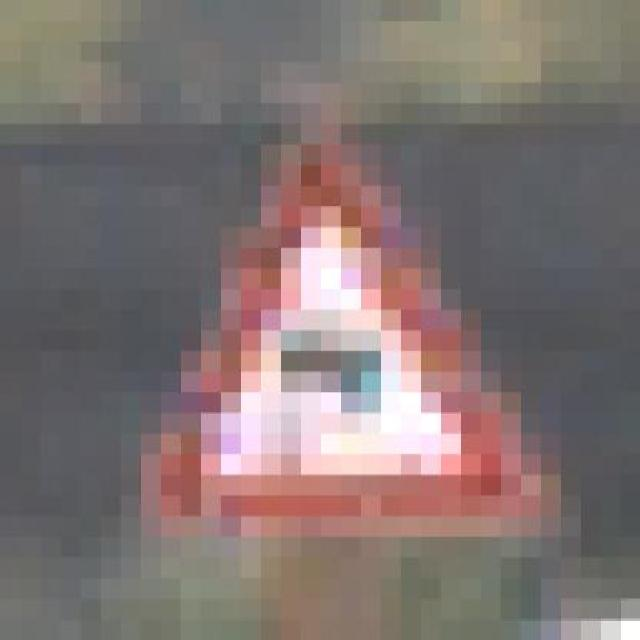Slippery Road Ahead: (100, 82, 580, 578)
